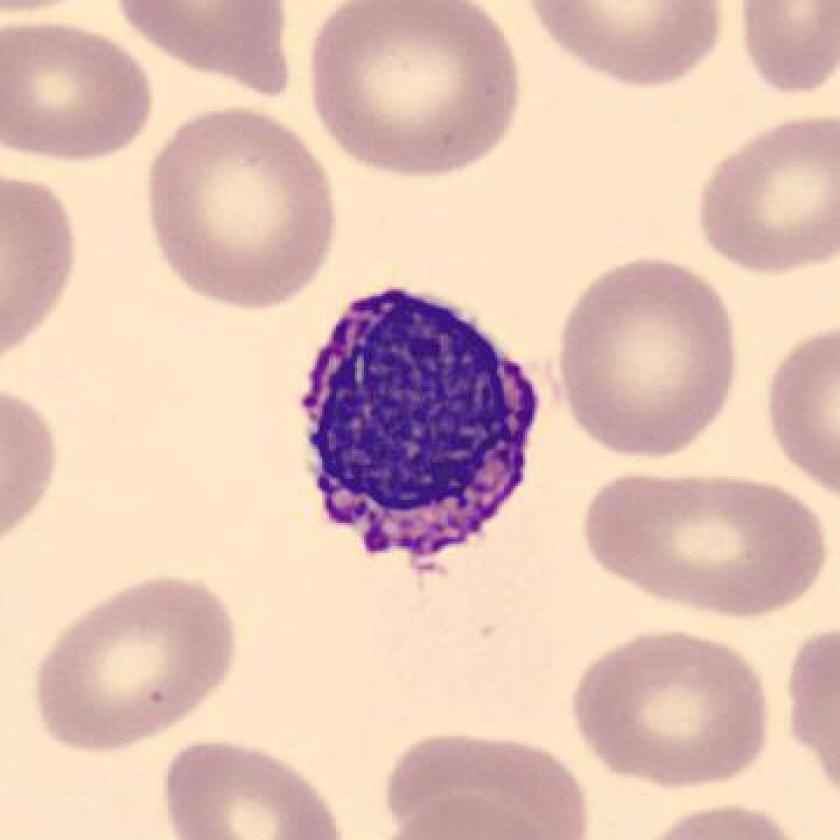basophil: (295, 279, 559, 582)
